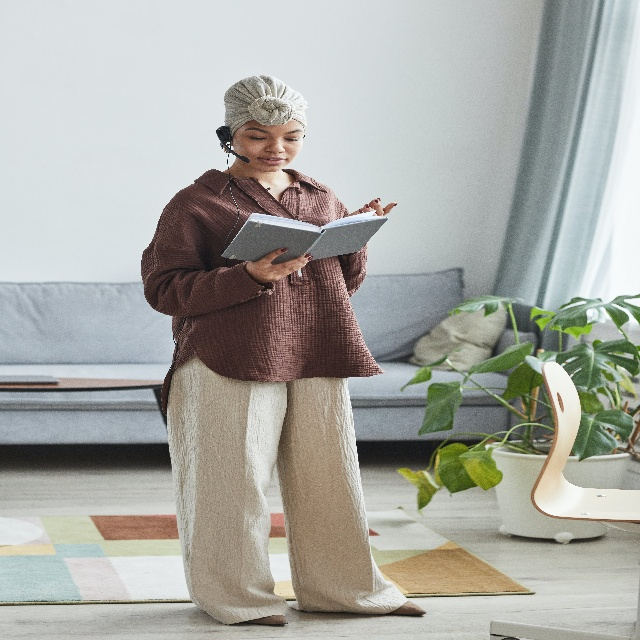Sin_guantes: (244, 244, 314, 283), (357, 190, 398, 219)
